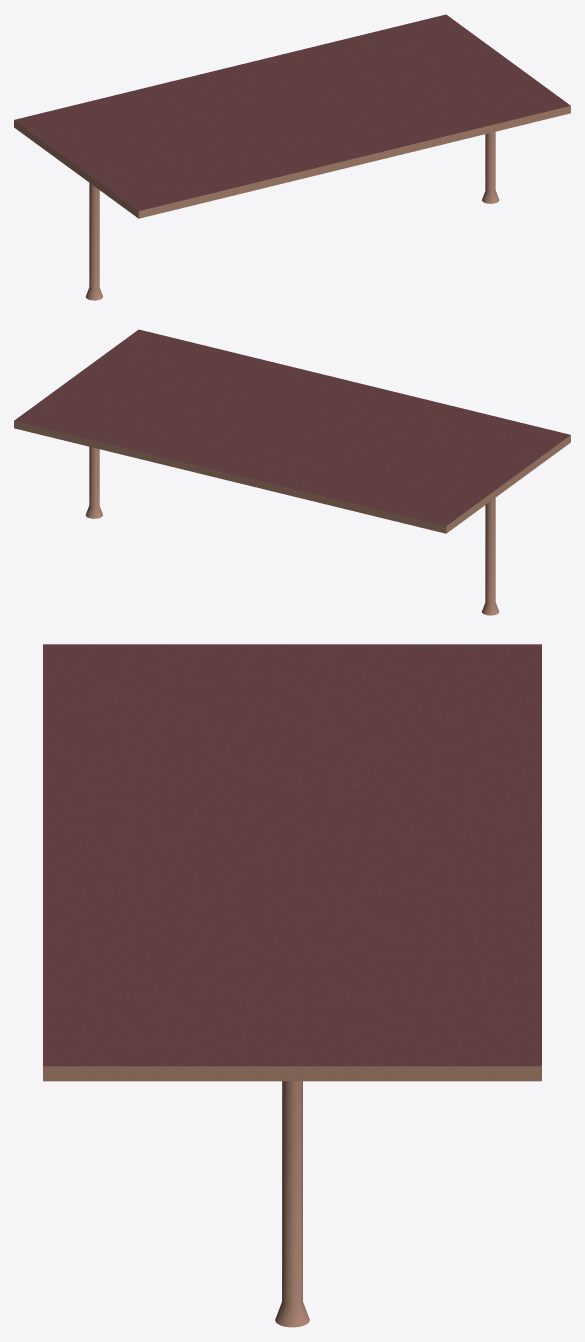
File: PR_TableX4.fbx
3 views of the same model, one above another, from view 1: azimuth 30°, elevation 25°; view 2: azimuth 150°, elevation 25°; view 3: azimuth 270°, elevation 25° (orthographic). The views are drawn at different scales.
Parts seen in each view (by area): view 1: Table; view 2: Table; view 3: Table.
Part boxes in pixels (box(x1,y1,x2,y2)): Table: box(14, 14, 570, 300); Table: box(14, 329, 570, 615); Table: box(43, 644, 541, 1327).
Size of the model in its own units: 240 by 72 by 120.
